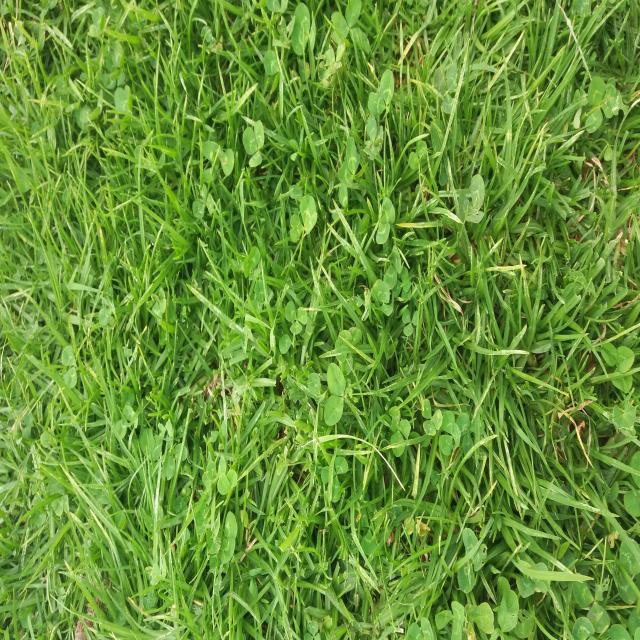Four Leaf Clover: (364, 113, 383, 160)
